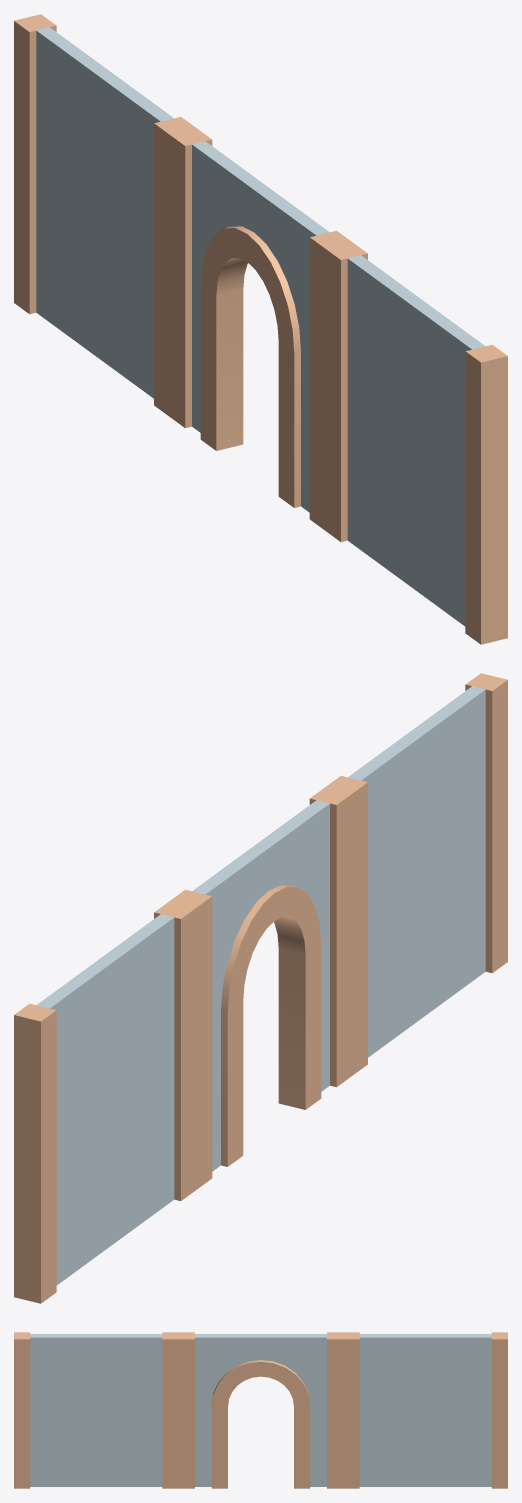
File: wall_with_door_opened.glb
3 renders of one model, top to bottom at view 1: azimuth 30°, elevation 25°; view 2: azimuth 150°, elevation 25°; view 3: azimuth 270°, elevation 25°, orthographic. The views are drawn at different scales.
Visible parts, largest first — view 1: wallDoor; view 2: wallDoor; view 3: wallDoor.
Boxes of the visible parts, x1=… form: wallDoor: x1=14, y1=14, x2=507, y2=644; wallDoor: x1=14, y1=673, x2=507, y2=1303; wallDoor: x1=14, y1=1332, x2=507, y2=1488.
Size of the model in its own units: 0.1 by 1 by 3.
